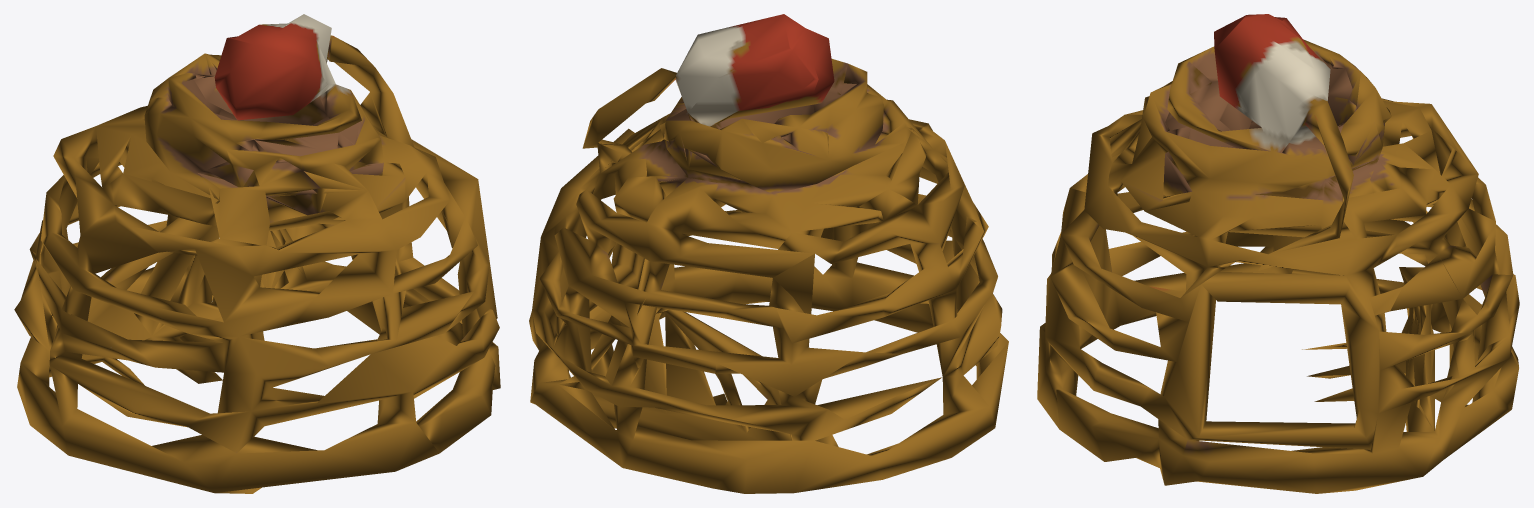
The model's file is crab-pot.glb.
3 renders of one model, left to right at view 1: azimuth 30°, elevation 25°; view 2: azimuth 150°, elevation 25°; view 3: azimuth 270°, elevation 25°, orthographic. The views are drawn at different scales.
Parts seen in each view (by area): view 1: tripo_node_9e6907db-19bc-4e65-8379-46f2e69d4a2b; view 2: tripo_node_9e6907db-19bc-4e65-8379-46f2e69d4a2b; view 3: tripo_node_9e6907db-19bc-4e65-8379-46f2e69d4a2b.
Boxes of the visible parts, x1,y1,x2,y2 form: tripo_node_9e6907db-19bc-4e65-8379-46f2e69d4a2b: [14, 14, 500, 493]; tripo_node_9e6907db-19bc-4e65-8379-46f2e69d4a2b: [529, 14, 1008, 493]; tripo_node_9e6907db-19bc-4e65-8379-46f2e69d4a2b: [1037, 14, 1519, 493].
Bounding box in the file's own units: 1 × 0.8894 × 0.9935.
1 material, 1 textured.
